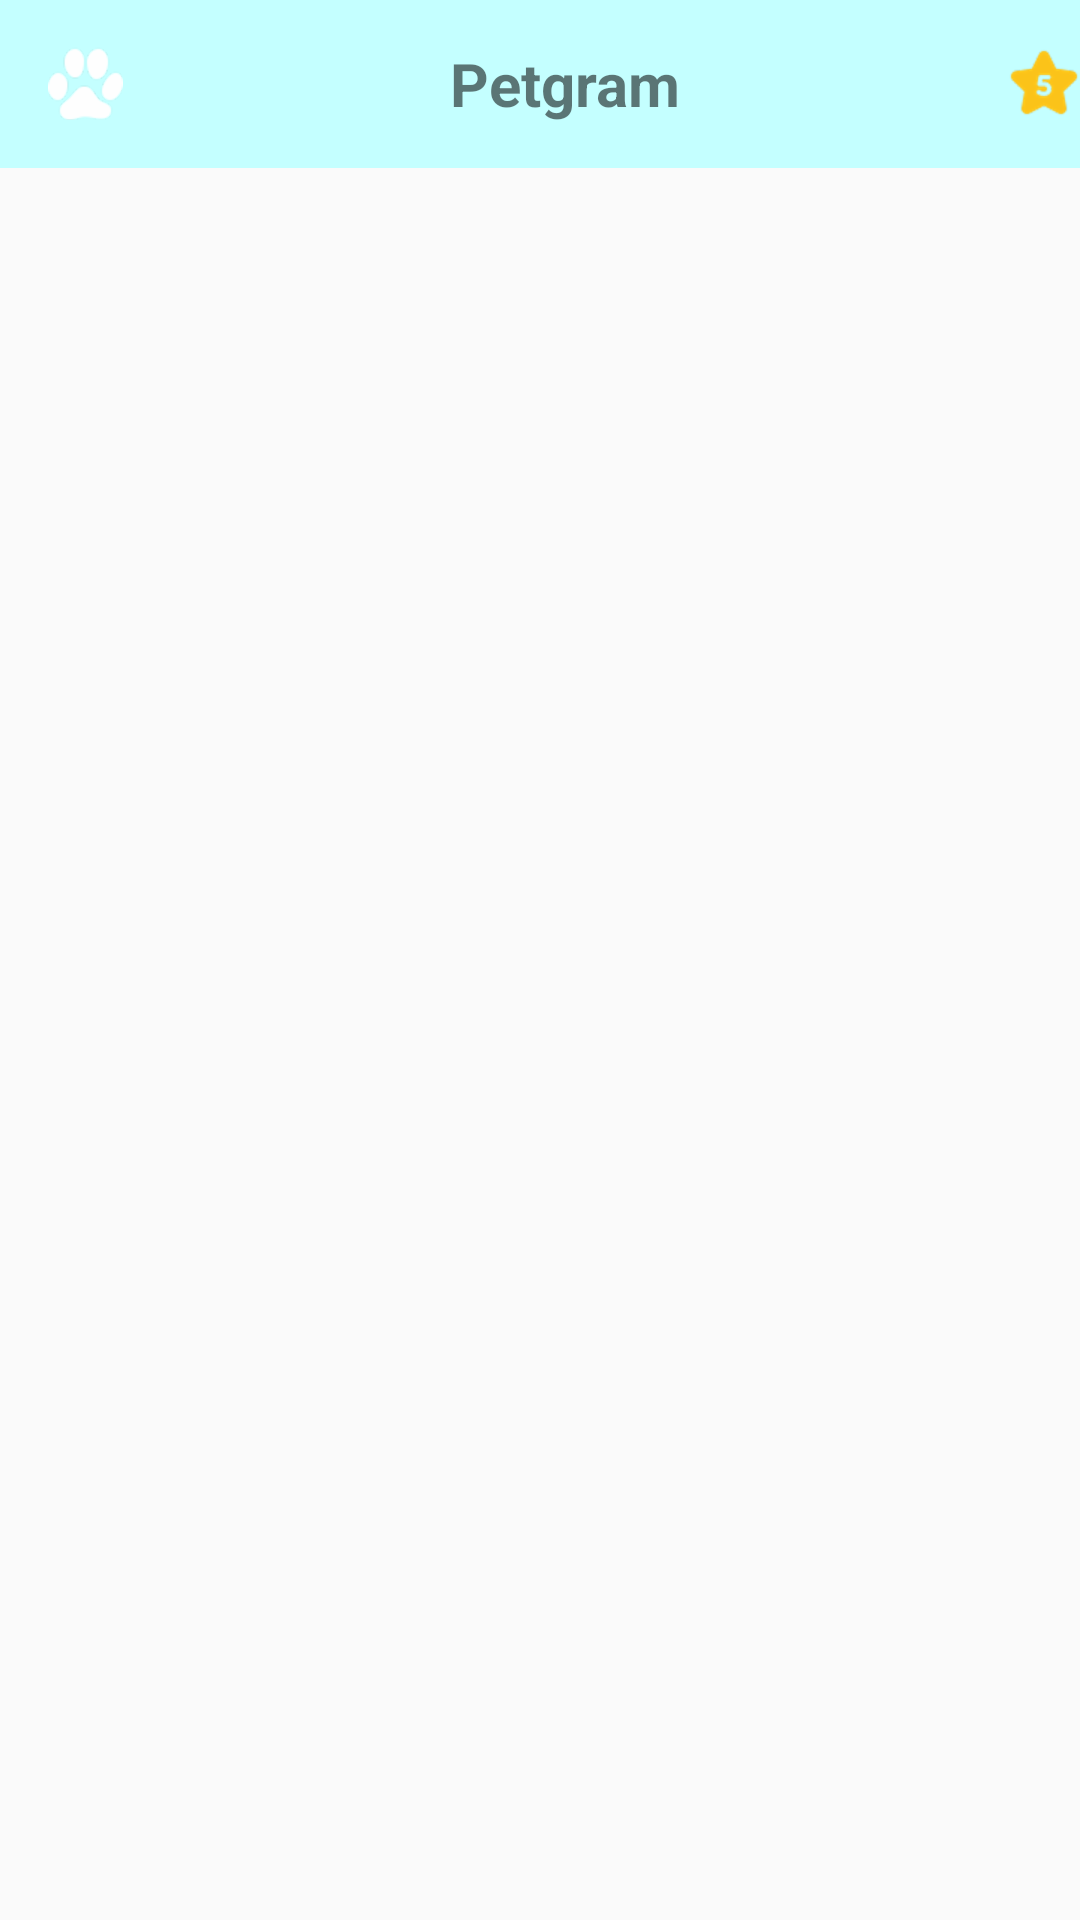

Screen size 1080w x 1920h. Icon name, then its box in pixels as [left=x1, top=y1, right=x2, bottom=y2]:
cat footprint: [left=48, top=49, right=123, bottom=119]
star: [left=1010, top=50, right=1078, bottom=115]
